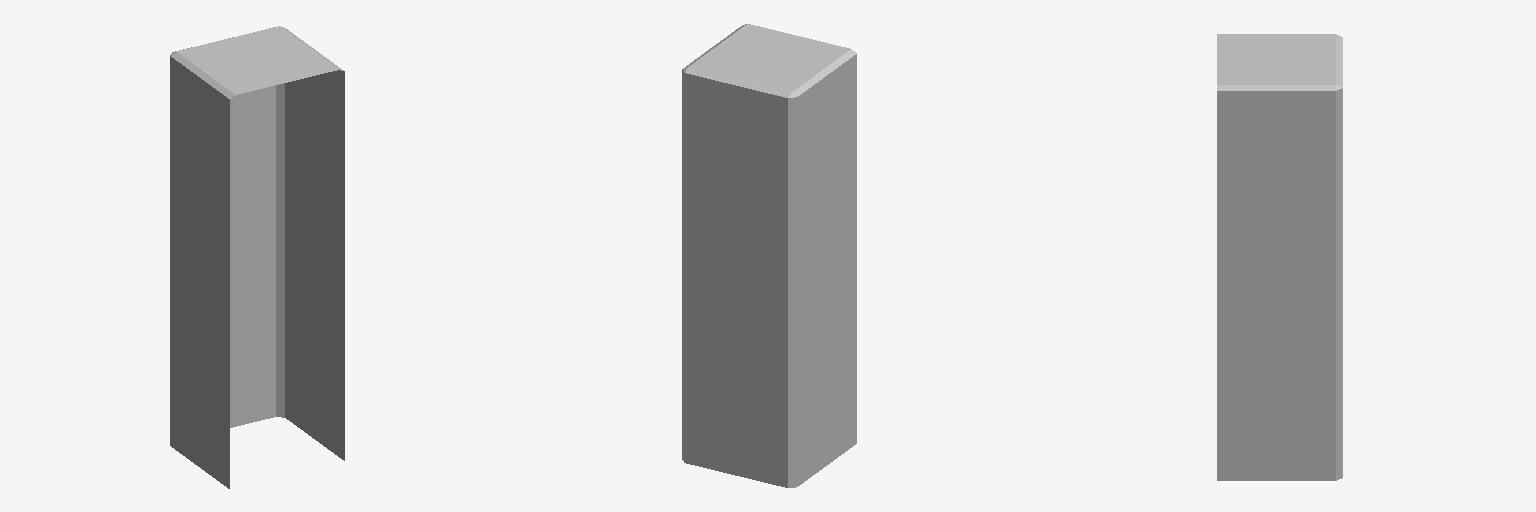
Rendered from locker.obj.
3 views of the same model, side by side, from view 1: azimuth 30°, elevation 25°; view 2: azimuth 150°, elevation 25°; view 3: azimuth 270°, elevation 25° (orthographic).
Parts seen in each view (by area): view 1: pCube21 group4; view 2: pCube21 group4; view 3: pCube21 group4.
Boxes of the visible parts, <box> form: pCube21 group4: <box>170,26,344,488</box>; pCube21 group4: <box>682,24,856,487</box>; pCube21 group4: <box>1217,34,1342,480</box>.
Bounding box in the file's own units: 2.9 × 9.46 × 2.75.